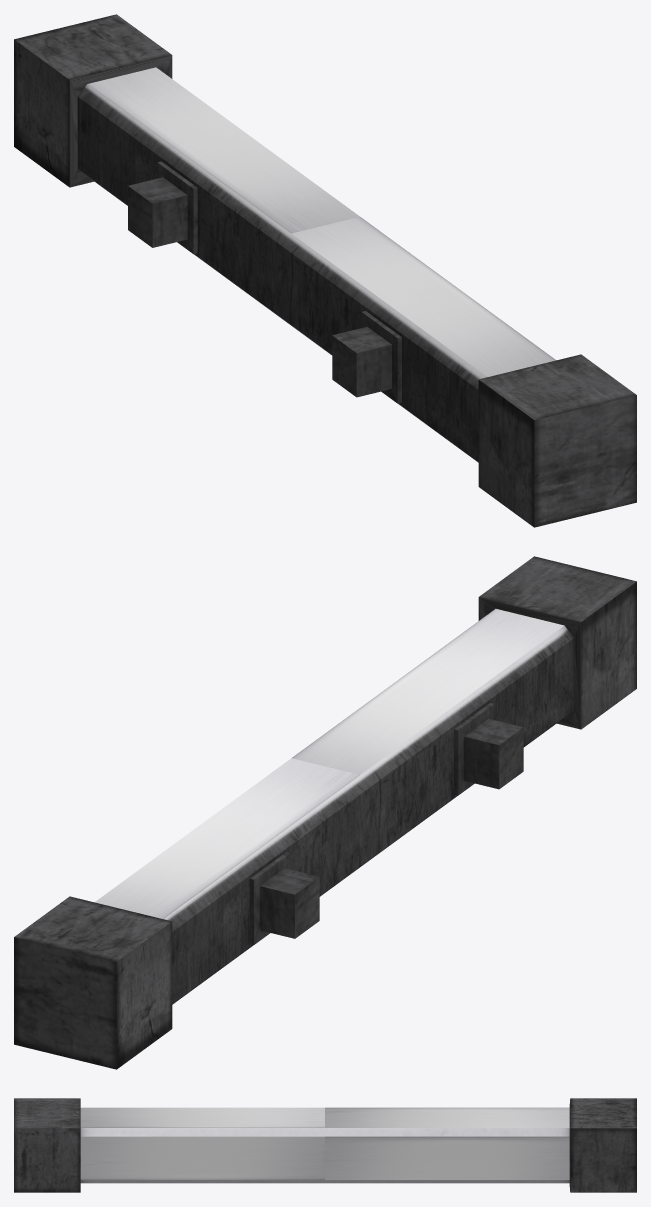
Rendered from Bridge_light_long.FBX.
3 renders of one model, top to bottom at view 1: azimuth 30°, elevation 25°; view 2: azimuth 150°, elevation 25°; view 3: azimuth 270°, elevation 25°, orthographic. The views are drawn at different scales.
Visible parts, largest first — view 1: Box001; view 2: Box001; view 3: Box001.
Boxes of the visible parts, box(x1,y1,x2,y2) form: Box001: box(14, 14, 636, 527); Box001: box(14, 556, 636, 1069); Box001: box(14, 1098, 636, 1192).
Bounding box in the file's own units: 6.02 × 4.58 × 40.23.
